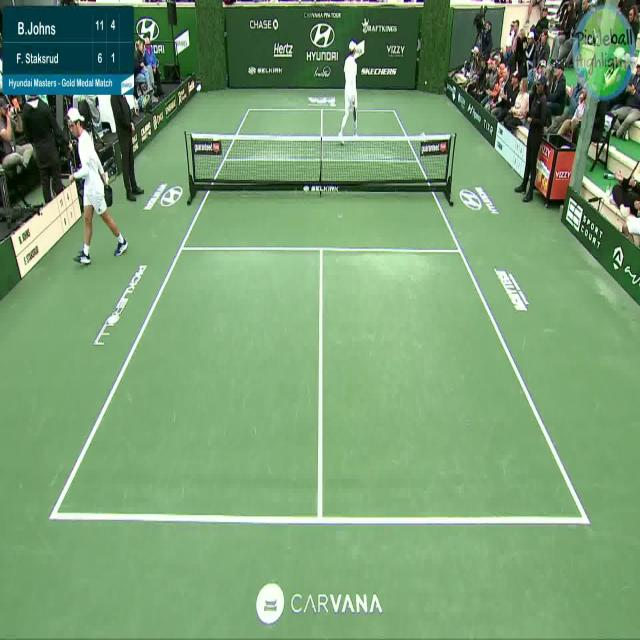ball: (424, 77, 427, 87)
